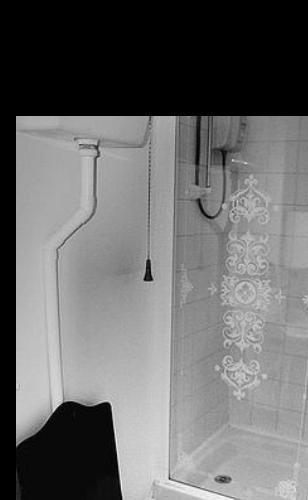Ducha: (156, 60, 308, 500)
Sanitario: (4, 413, 227, 500)
